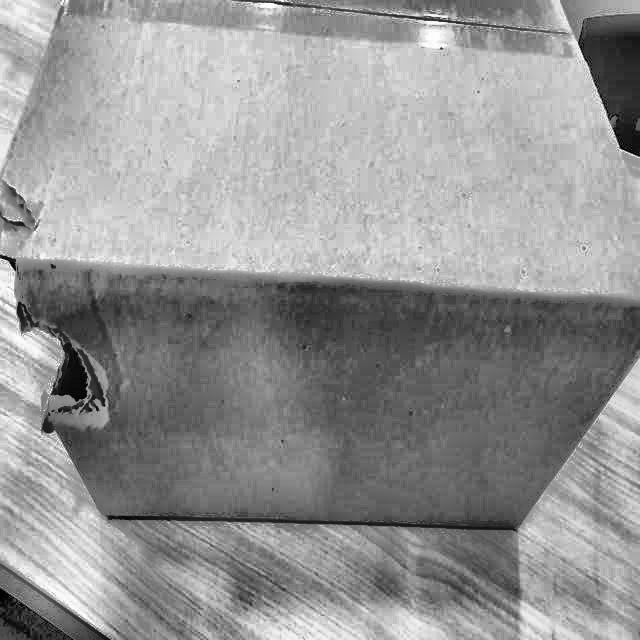box: (0, 0, 639, 538)
hole: (4, 254, 107, 428)
